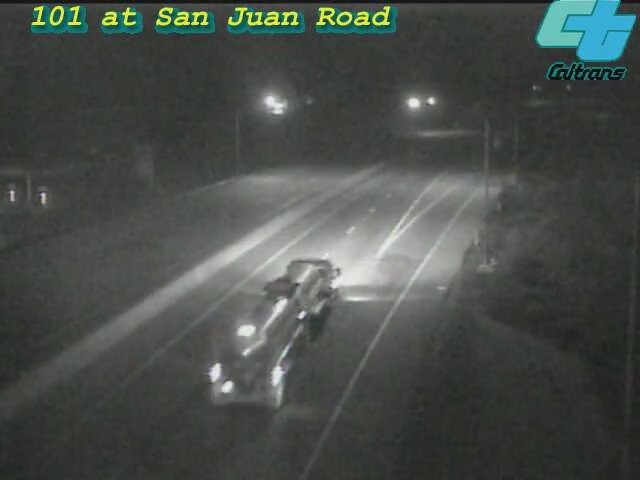vehicle: (225, 271, 335, 381)
